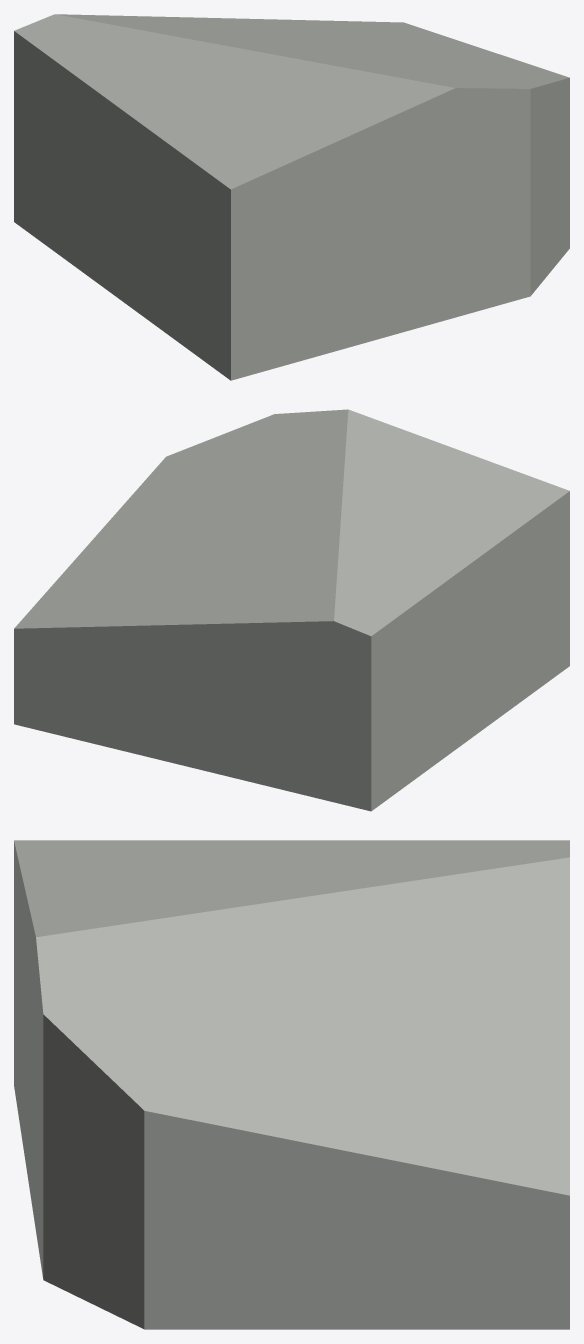
File: Rock_Square_s_08.fbx
3 views of the same model, one above another, from view 1: azimuth 30°, elevation 25°; view 2: azimuth 150°, elevation 25°; view 3: azimuth 270°, elevation 25° (orthographic). The views are drawn at different scales.
Visible parts, largest first — view 1: Rock_Square_s_08; view 2: Rock_Square_s_08; view 3: Rock_Square_s_08.
Boxes of the visible parts, x1,y1,x2,y2 form: Rock_Square_s_08: (14,14,569,380); Rock_Square_s_08: (14,409,569,811); Rock_Square_s_08: (14,840,569,1329).
Size of the model in its own units: 40.23 by 22.62 by 38.75.
